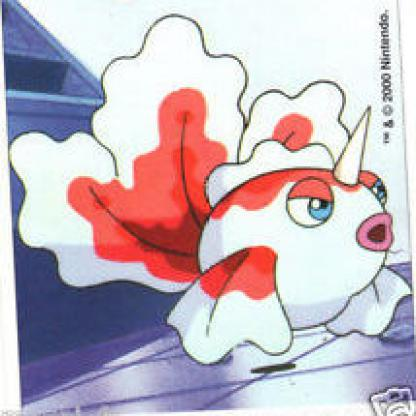Goldeen: (5, 9, 415, 374)
